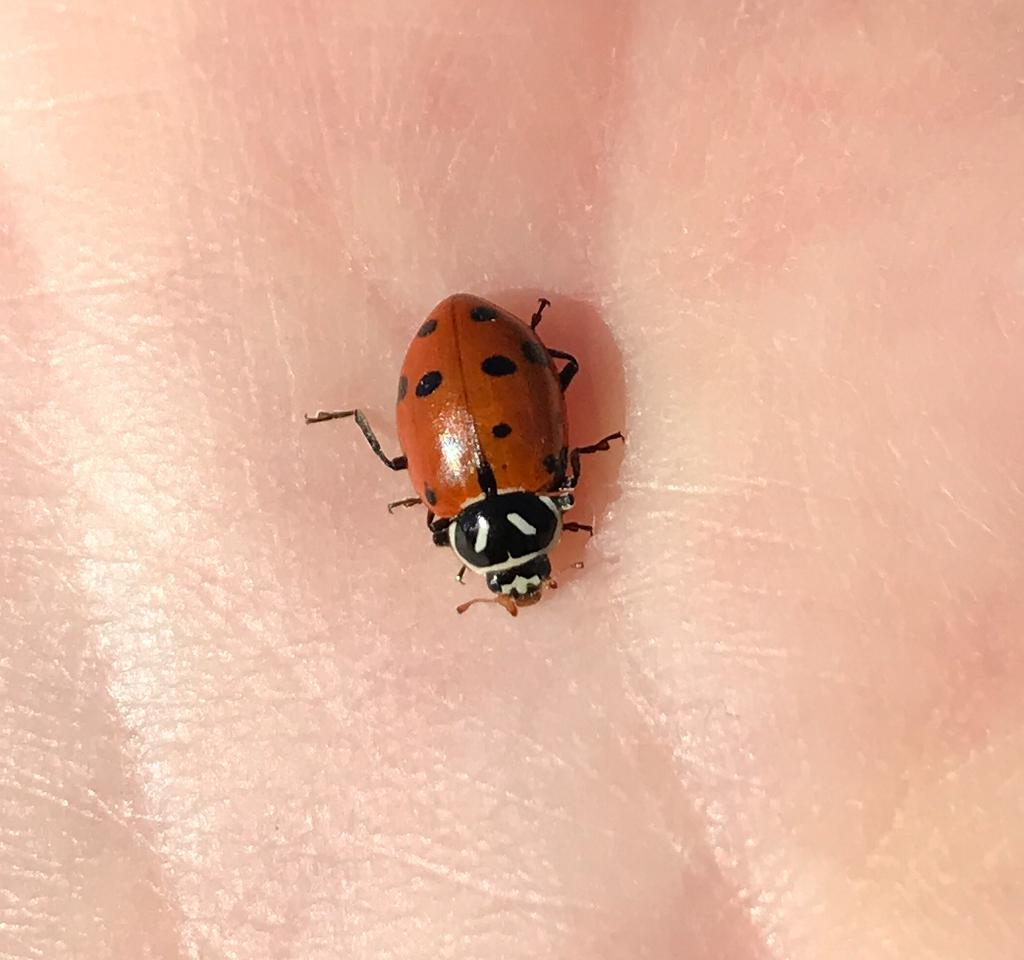ladybug: (301, 281, 646, 636)
